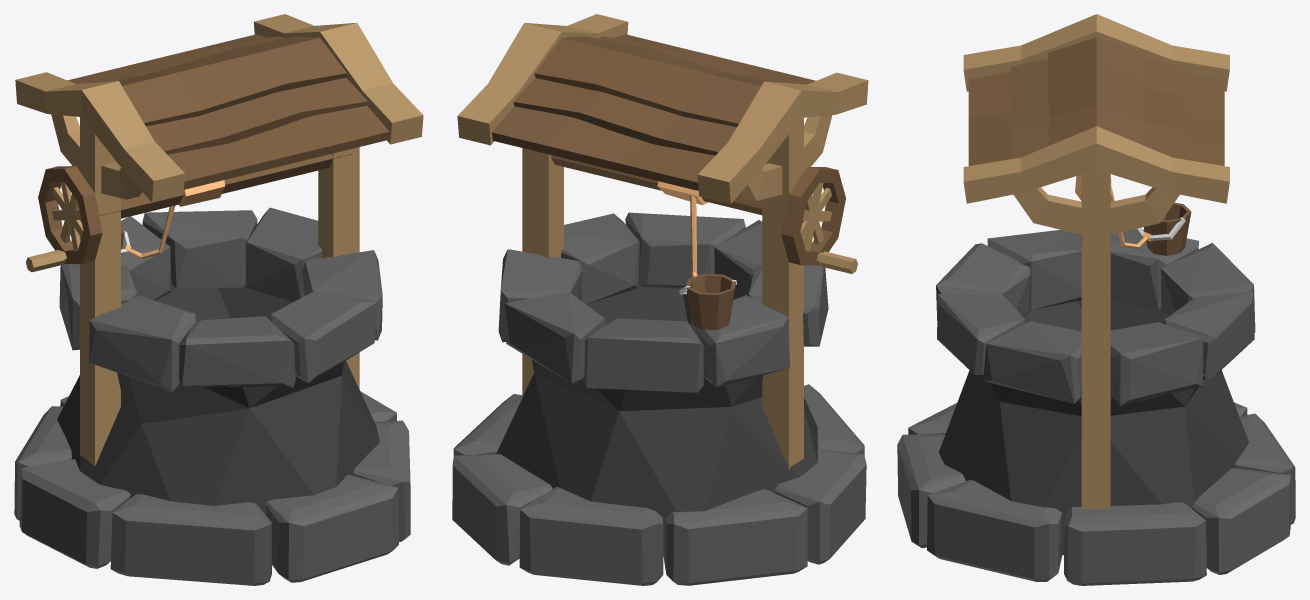
File: Well.fbx
The picture shows the model from 3 angles, left to right: view 1: azimuth 30°, elevation 25°; view 2: azimuth 150°, elevation 25°; view 3: azimuth 270°, elevation 25°; orthographic projection. The views are drawn at different scales.
Visible parts, largest first — view 1: Stones, Cube.003, Well, roof, roof tiles, axle; view 2: Cube.003, Stones, Well, roof, roof tiles, axle, bucket; view 3: Stones, Cube.003, roof, Well, roof tiles, bucket.
Boxes of the visible parts, left/top/right/bottom form: Stones: left=59, top=207, right=382, bottom=392; Cube.003: left=14, top=391, right=410, bottom=585; Well: left=57, top=283, right=379, bottom=514; roof: left=15, top=14, right=423, bottom=466; roof tiles: left=67, top=34, right=389, bottom=189; axle: left=26, top=153, right=351, bottom=272; Cube.003: left=452, top=384, right=866, bottom=585; Stones: left=498, top=212, right=828, bottom=392; Well: left=496, top=286, right=818, bottom=547; roof: left=457, top=14, right=868, bottom=470; roof tiles: left=492, top=34, right=815, bottom=190; axle: left=551, top=155, right=857, bottom=273; bucket: left=686, top=273, right=736, bottom=330; Stones: left=936, top=229, right=1255, bottom=405; Cube.003: left=897, top=402, right=1295, bottom=585; roof: left=963, top=14, right=1229, bottom=508; Well: left=938, top=300, right=1248, bottom=555; roof tiles: left=968, top=37, right=1224, bottom=165; bucket: left=1144, top=202, right=1191, bottom=255.
Bounding box in the file's own units: 175 × 211 × 176.
